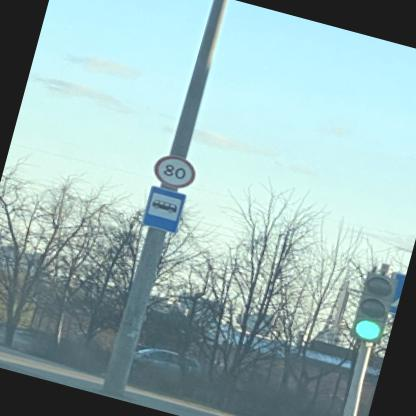speedlimit: (147, 148, 195, 188)
trafficlight: (346, 267, 396, 343)
